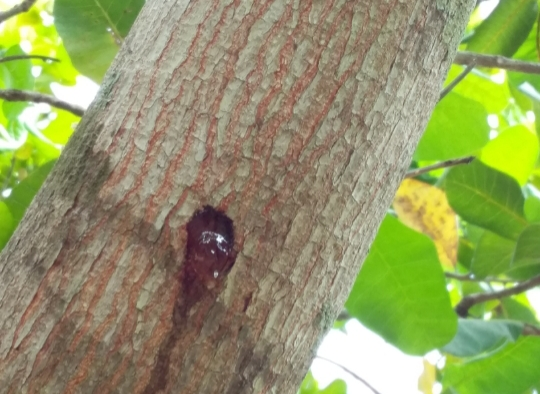Apate terebrans: (167, 195, 274, 275)
